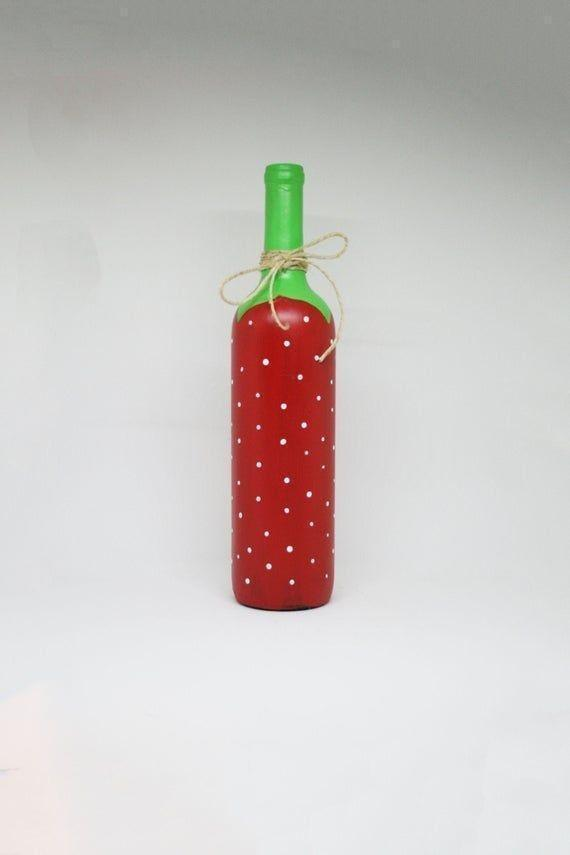bottle-glass: (224, 161, 342, 615)
